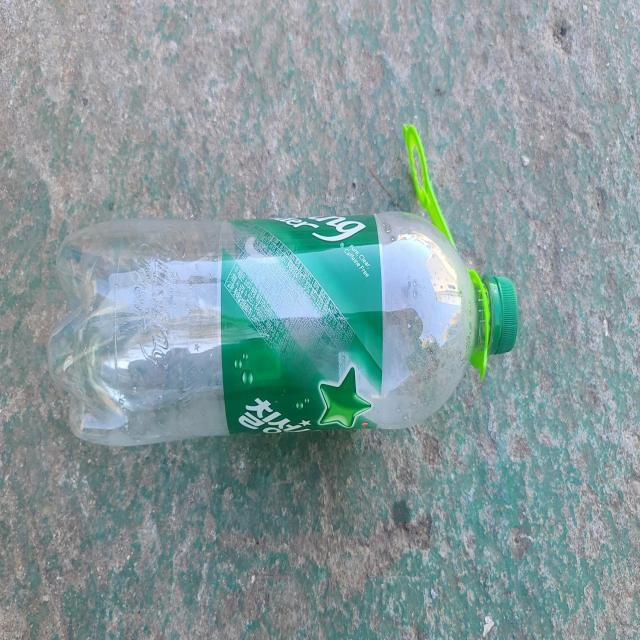plastic: (47, 211, 519, 445)
